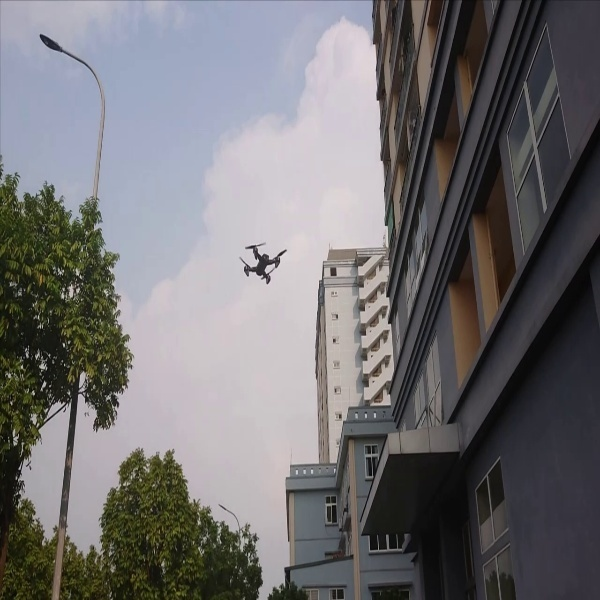drone: (235, 239, 292, 291)
